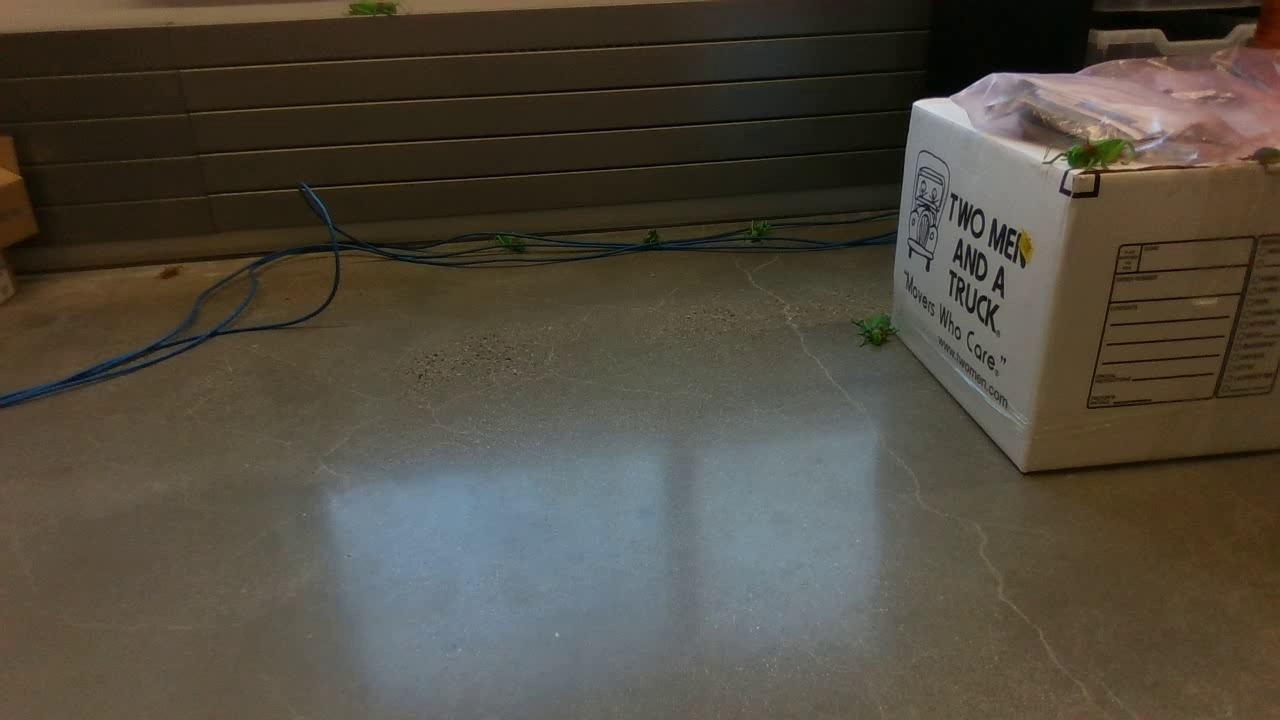grasshopper: (1040, 140, 1142, 173), (846, 311, 903, 350), (346, 1, 409, 19), (742, 217, 775, 243), (492, 229, 527, 250)
